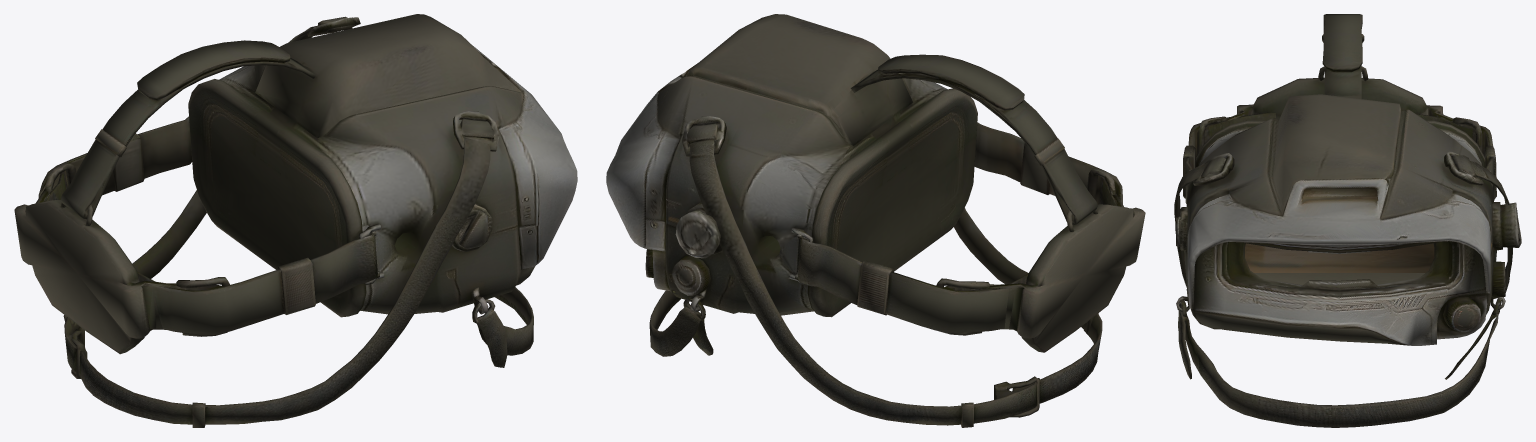
File: BINOCULARS.glb
The picture shows the model from 3 angles, left to right: view 1: azimuth 30°, elevation 25°; view 2: azimuth 150°, elevation 25°; view 3: azimuth 270°, elevation 25°; orthographic projection. The views are drawn at different scales.
Visible parts, largest first — view 1: world; view 2: world; view 3: world.
Part boxes in pixels (<box>): world: <box>14,14,577,427</box>; world: <box>606,14,1145,427</box>; world: <box>1174,14,1521,427</box>.
Size of the model in its own units: 0.998 by 0.6777 by 0.7676.
Materials: 1 (1 with a texture image).
